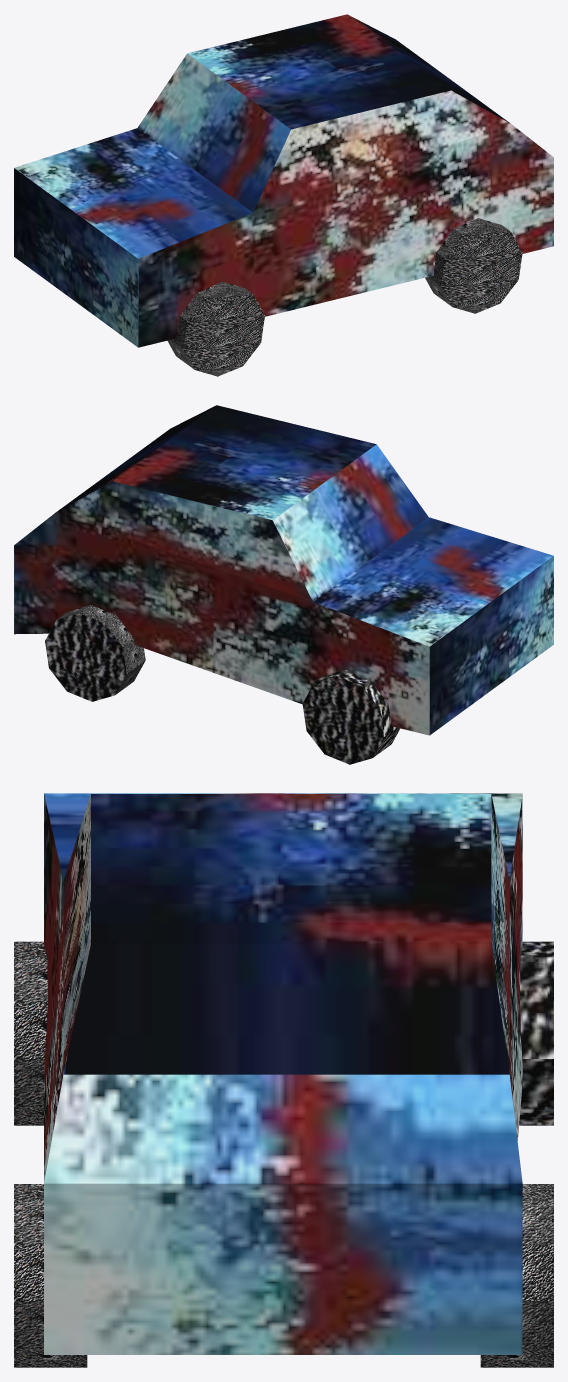
The model's file is car.obj.
3 renders of one model, top to bottom at view 1: azimuth 30°, elevation 25°; view 2: azimuth 150°, elevation 25°; view 3: azimuth 270°, elevation 25°, orthographic. The views are drawn at different scales.
Parts seen in each view (by area): view 1: Plane, Circle.003, Circle.001; view 2: Plane, Circle.002, Circle; view 3: Plane, Circle.002, Circle, Circle.003, Circle.001.
Boxes of the visible parts, box(x1,y1,x2,y2) form: Plane: box(14, 14, 553, 347); Circle.003: box(425, 218, 522, 313); Circle.001: box(167, 281, 264, 376); Plane: box(14, 405, 553, 735); Circle.002: box(45, 605, 145, 701); Circle: box(302, 670, 400, 764); Plane: box(44, 793, 522, 1354); Circle.002: box(480, 1184, 553, 1367); Circle: box(519, 941, 553, 1125); Circle.003: box(14, 1184, 87, 1367); Circle.001: box(14, 941, 47, 1125).
Bounding box in the file's own units: 1.45 × 0.7003 × 0.8486.
